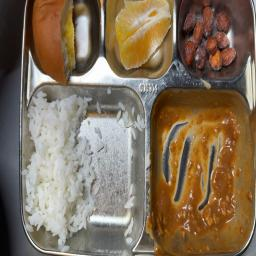100_orange: (106, 1, 175, 76)
50_bread: (29, 1, 98, 80)
50_nuts: (184, 6, 246, 74)
50_rice: (24, 86, 142, 247)
empty: (150, 88, 251, 251)
